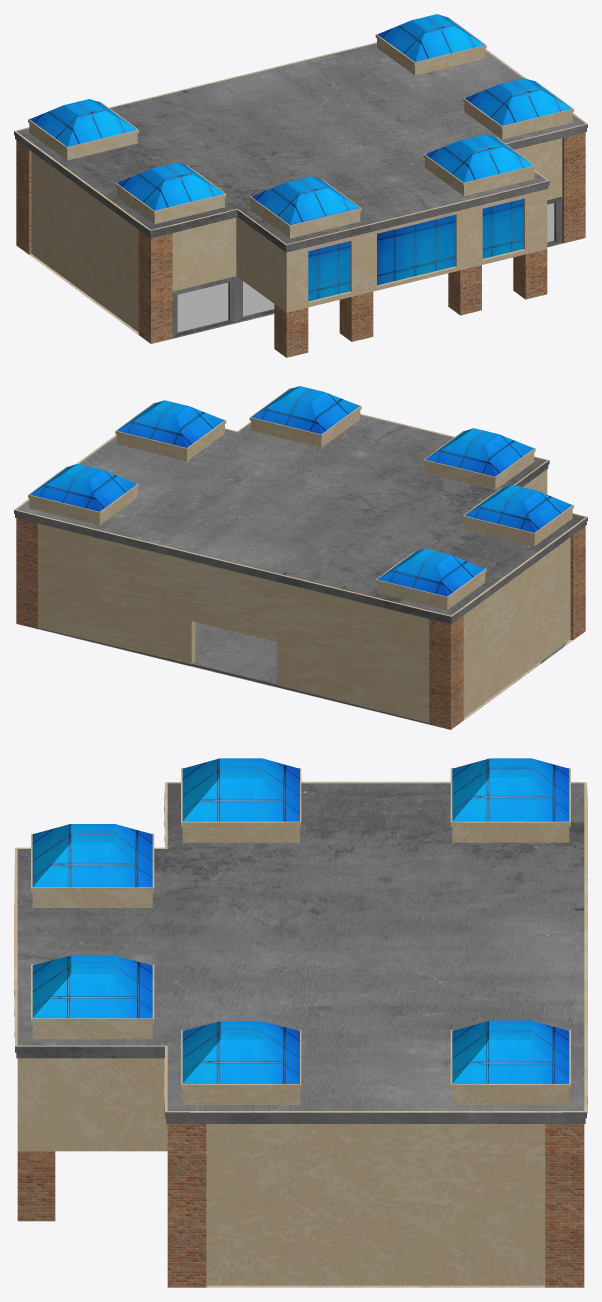
Rendered from MALL.fbx.
3 views of the same model, one above another, from view 1: azimuth 30°, elevation 25°; view 2: azimuth 150°, elevation 25°; view 3: azimuth 270°, elevation 25° (orthographic). The views are drawn at different scales.
Visible parts, largest first — view 1: MALL; view 2: MALL; view 3: MALL.
Part boxes in pixels (x1=…): MALL: x1=14, y1=14, x2=587, y2=357; MALL: x1=14, y1=386, x2=587, y2=729; MALL: x1=14, y1=758, x2=587, y2=1287.
Bounding box in the file's own units: 5252 × 1661 × 3850.
